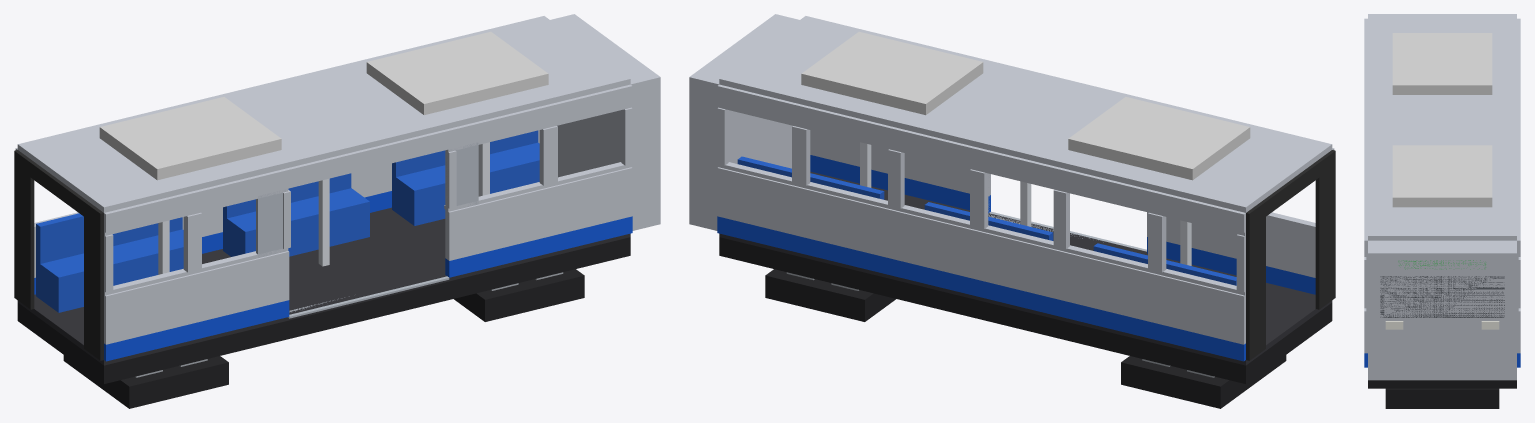
File: metro_wagon_lead.obj
3 renders of one model, left to right at view 1: azimuth 30°, elevation 25°; view 2: azimuth 150°, elevation 25°; view 3: azimuth 270°, elevation 25°, orthographic. The views are drawn at different scales.
Bounding box in the file's own units: 3.16 × 1.26 × 0.88.
